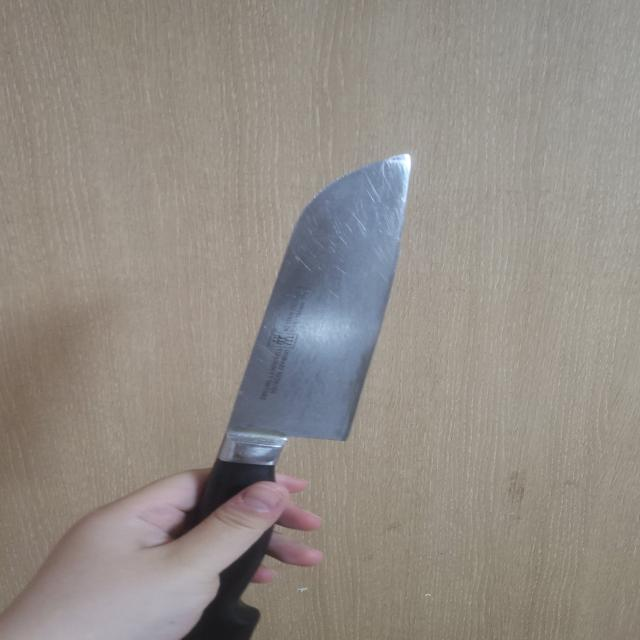knife: (158, 154, 413, 640)
